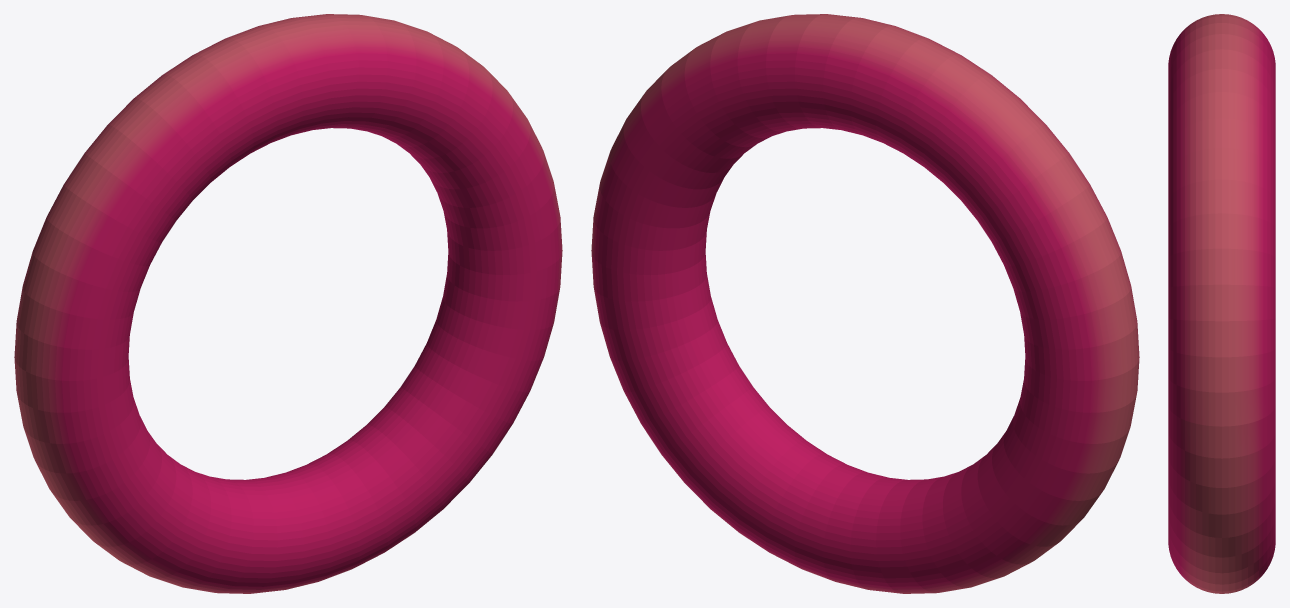
3 renders of one model, left to right at view 1: azimuth 30°, elevation 25°; view 2: azimuth 150°, elevation 25°; view 3: azimuth 270°, elevation 25°, orthographic. The views are drawn at different scales.
Parts seen in each view (by area): view 1: world; view 2: world; view 3: world.
Boxes of the visible parts, x1,y1,x2,y2 form: world: [14, 14, 562, 593]; world: [591, 14, 1139, 593]; world: [1168, 14, 1275, 593].
Size of the model in its own units: 35.2 by 35.13 by 6.52.
